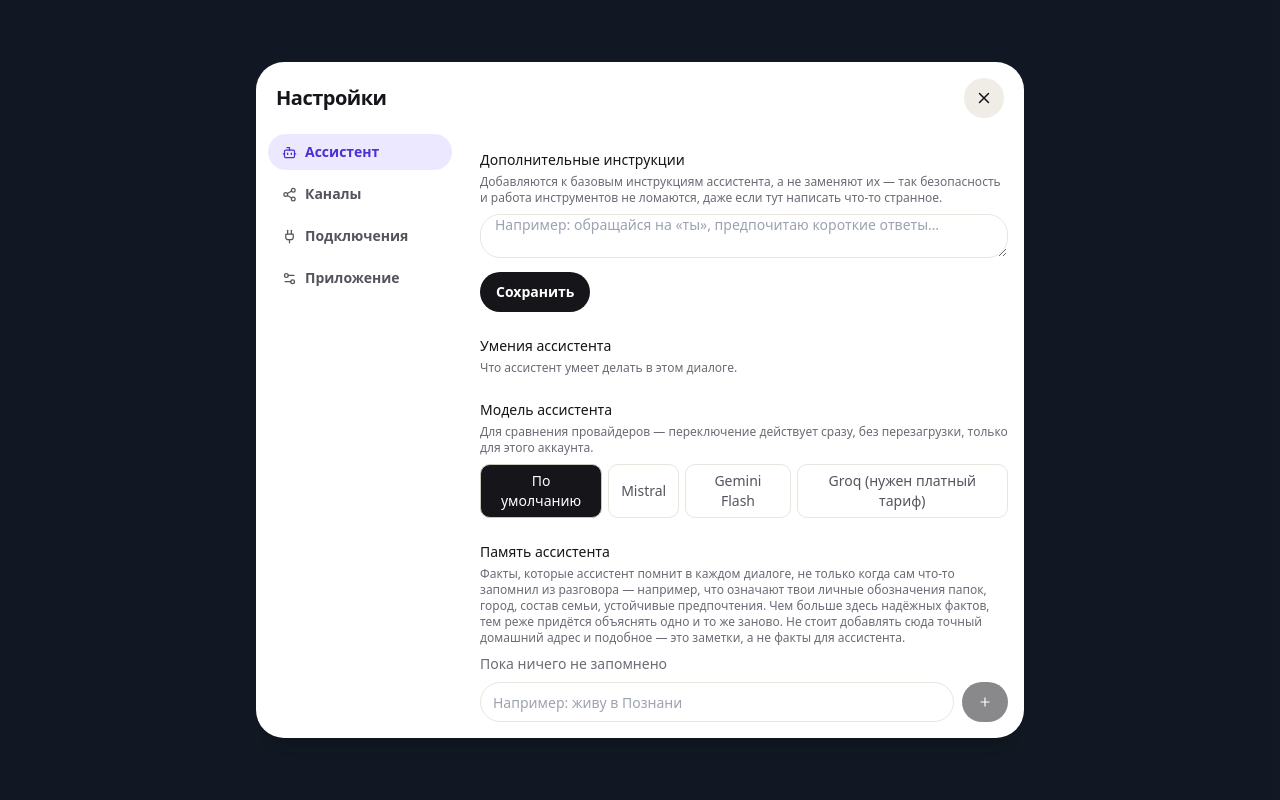
Test: переход по разделам › подключения по MCP лежат в своём разделе
Click the button "Подключения" at (360, 236), box [268, 218, 452, 254]
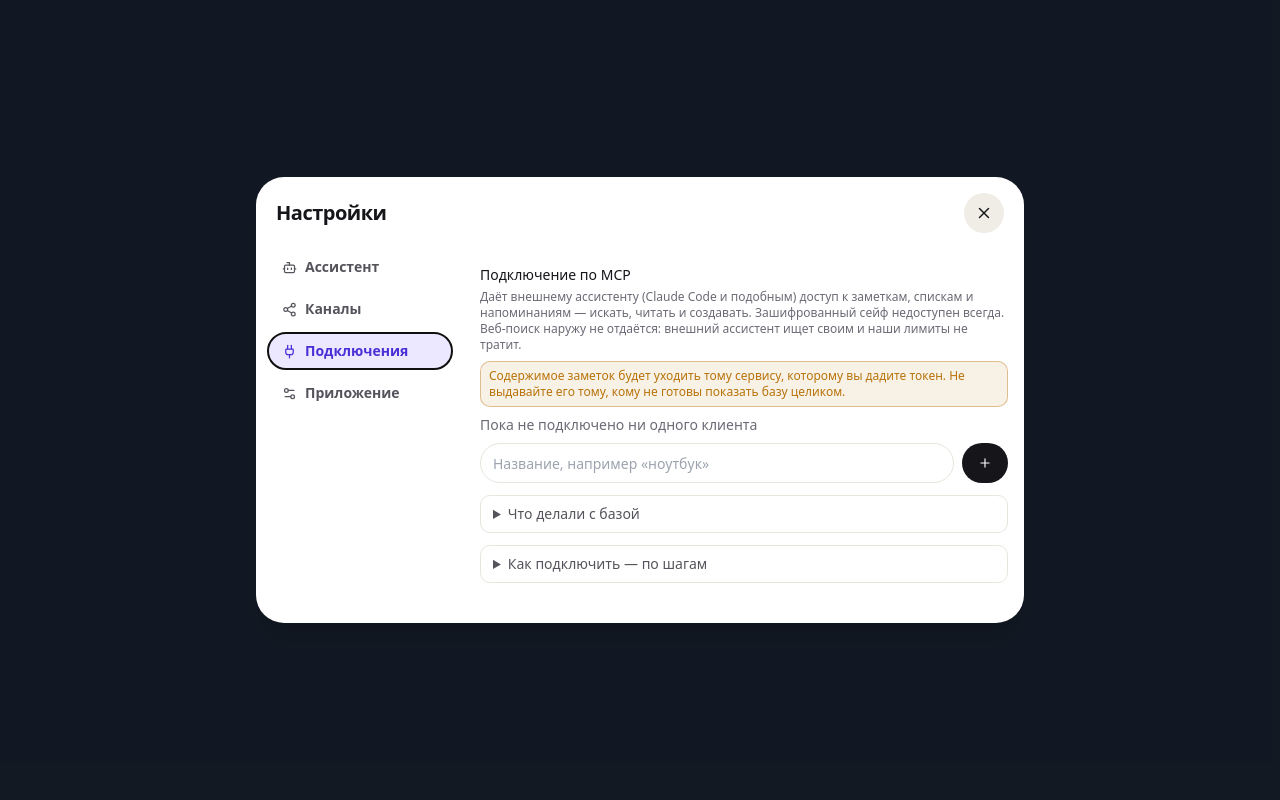
Expected: the text "Подключение по MCP" is shown, [480, 265, 631, 284]
